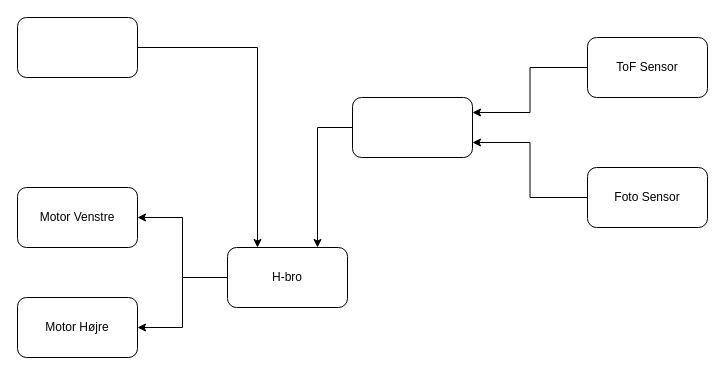
Some shapes in this 725 by 375 pixel diagram are drawn without their labels. The centre of each missing label's shape, as x and y in pixels:
"Batteri" belongs at pixel 77 47.
"MCU" belongs at pixel 412 127.
